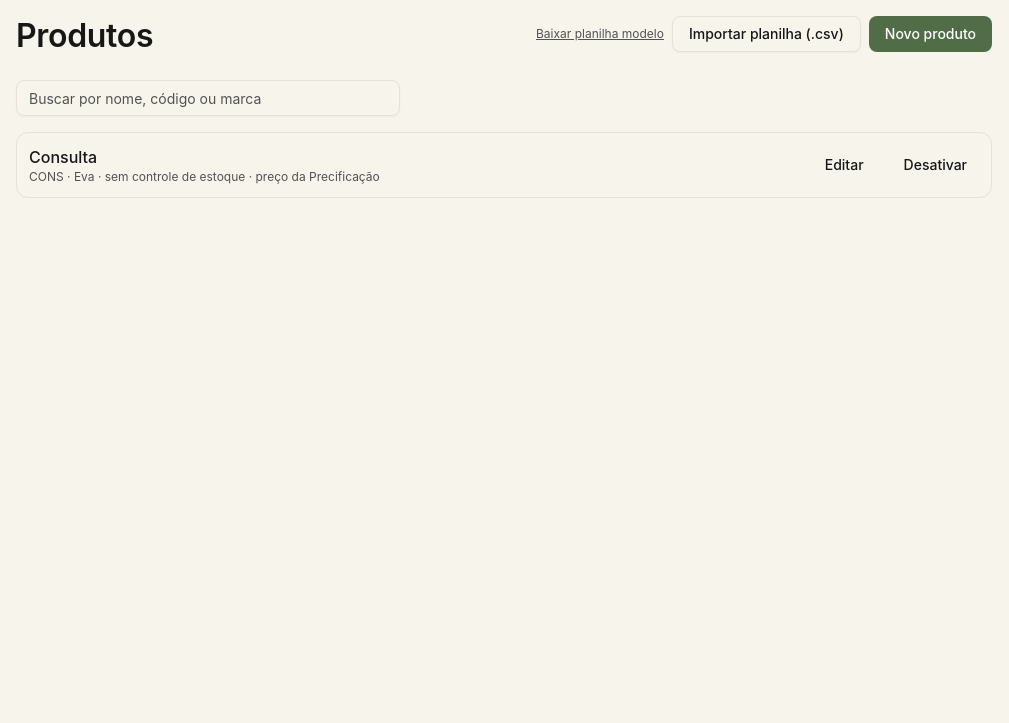
it: item que vem da Precificação › o aviso do formulário concorda em gênero: da, da e na Precificação
Click the button with test id "editar-CONS". click: (844, 165)
box: 813,149 -> 876,181
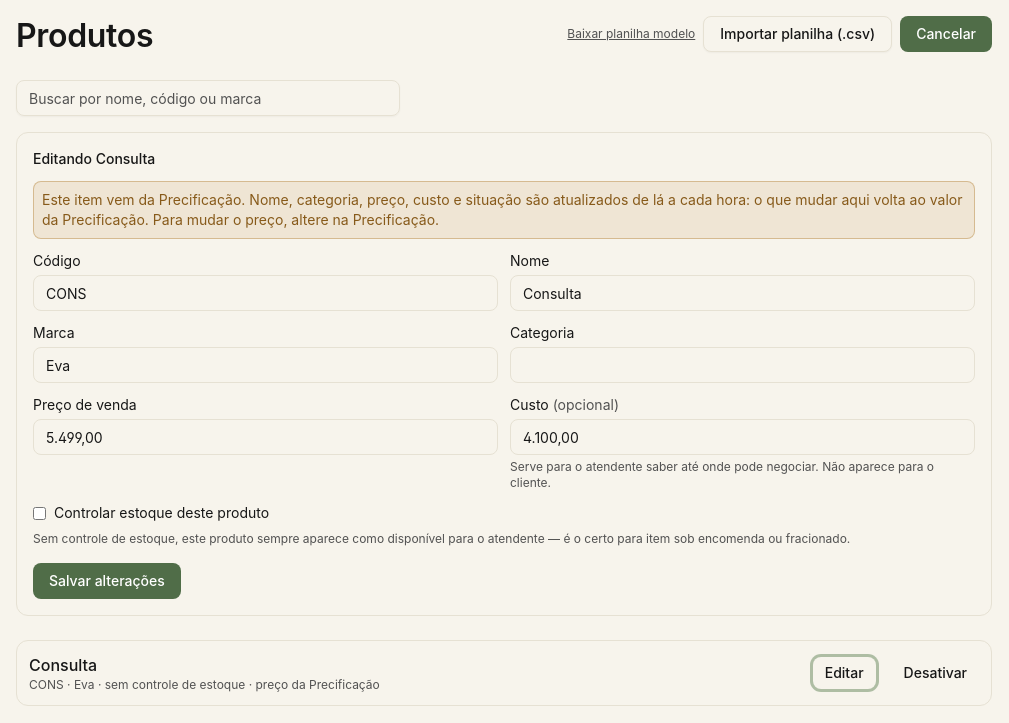
Now the text with test id "produto-do-precificaeva" shows "Este item vem da Precificação. Nome, categoria, preço, custo e situação são atualizados de lá a cada hora: o que mudar aqui volta ao valor da Precificação. Para", box 42,191 -> 962,228
